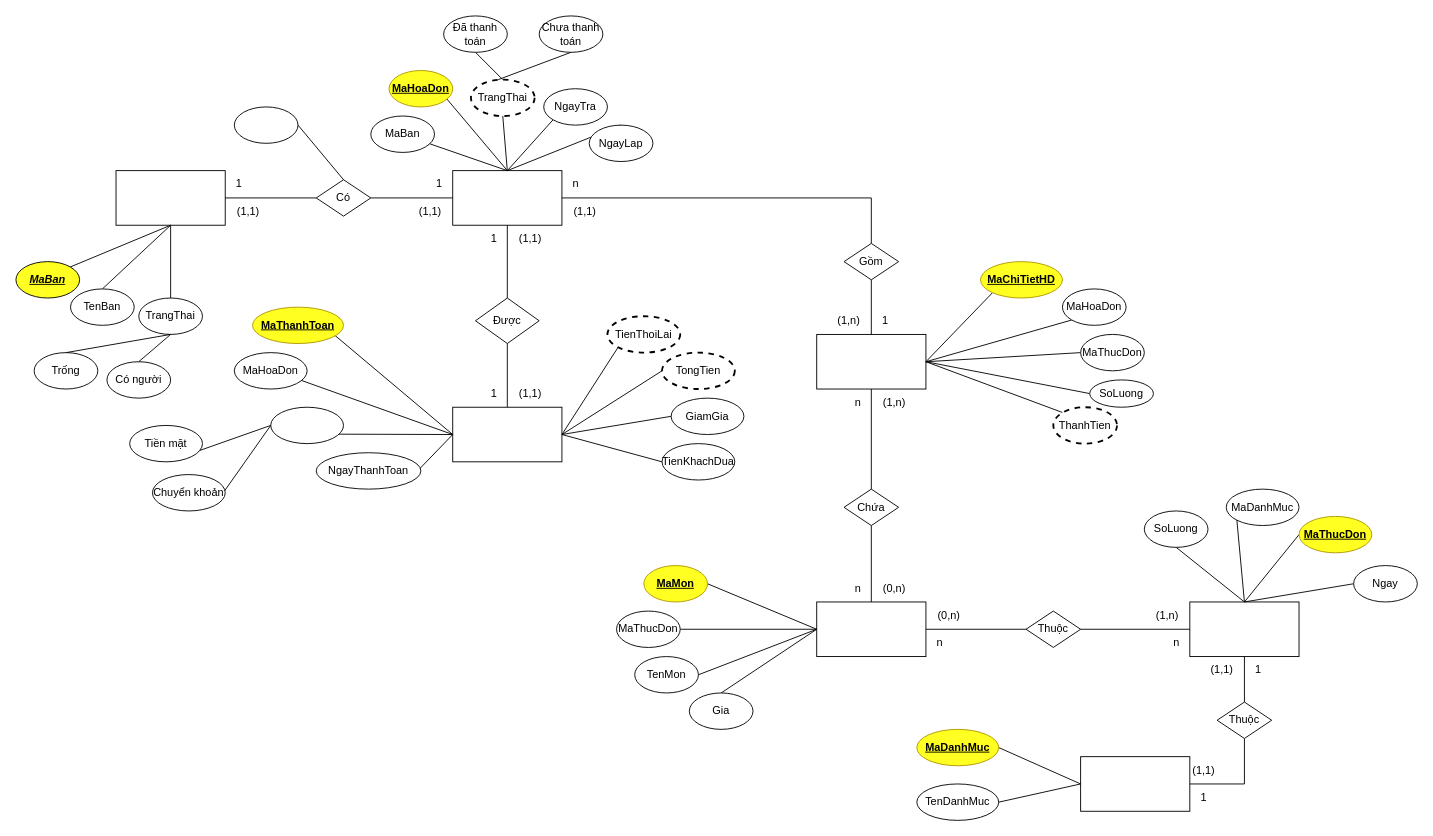
The diagram is 1433 pixels wide and 836 high, and some of its shapes have lost their labels. The centre of each missing label's shape, as x and y in pixels:
"Bàn" belongs at point 170,197.
"ChiTietHoaDon" belongs at point 871,361.
"DanhMucMon" belongs at point 1135,783.
"HoaDon" belongs at point 507,197.
"Mon" belongs at point 871,629.
"PhuongThuc" belongs at point 307,425.
"Số lượng khách" belongs at point 265,124.
"ThanhToan" belongs at point 507,434.
"ThucDon" belongs at point 1244,629.
